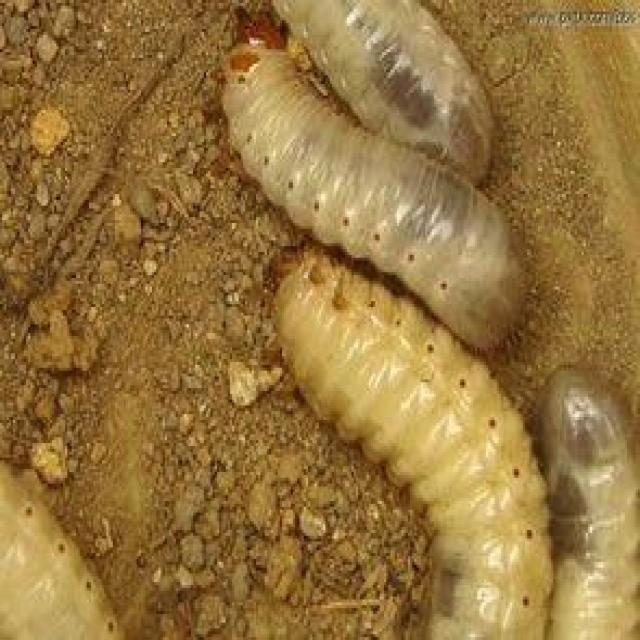grub: (248, 236, 558, 635), (220, 34, 541, 344), (525, 357, 636, 640), (1, 415, 138, 635)
